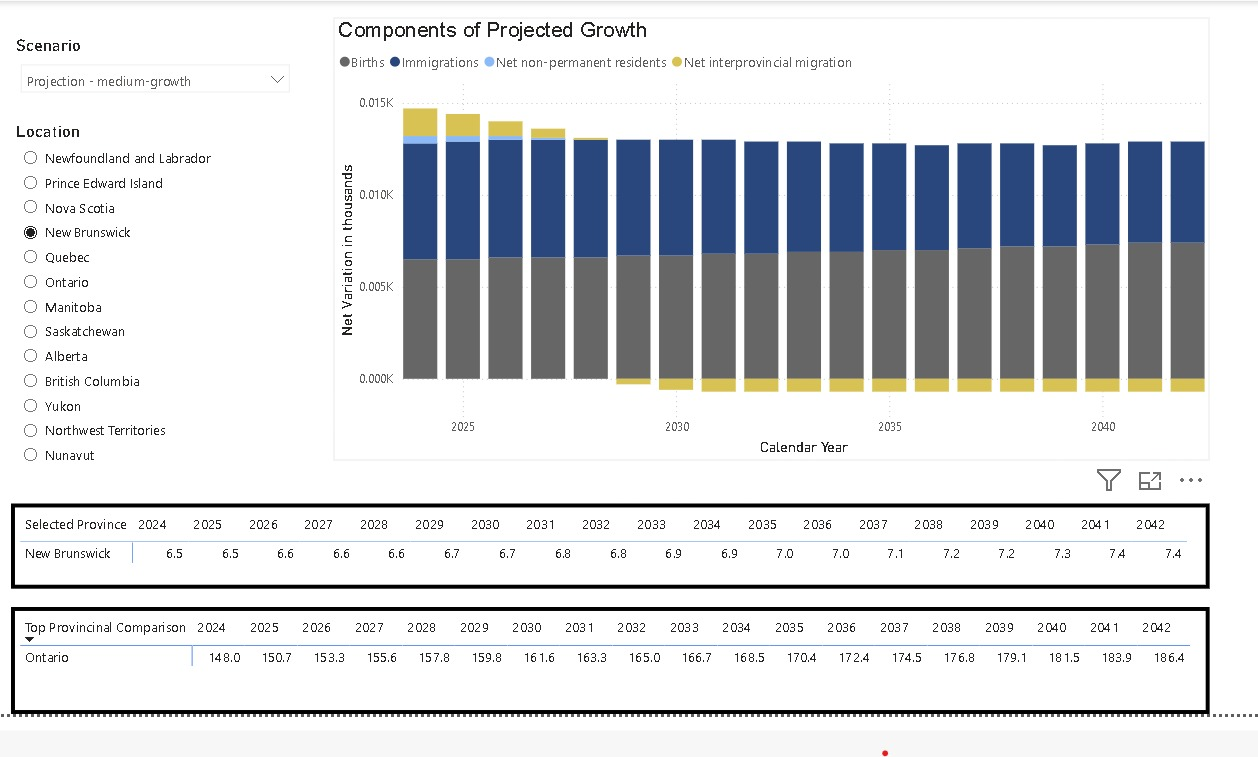

The page's visual inventory and layout, read from the dashboard file:
{"tool":"powerbi","page":{"name":"Detailed Popn Projections","canvas":[1280,720],"ordinal":2},"visuals":[{"type":"slicer","title":"Scenario","fields":{"Values":["Detailed Projections.Projection scenario"]},"box":[18.8,34.3,291.3,75.4],"z":0},{"type":"slicer","title":"Location","fields":{"Values":["Detailed Projections.Location"]},"box":[18.8,121.7,279.3,385.5],"z":1000},{"type":"columnChart","title":"Components of Projected Growth","fields":{"Category":["Detailed Projections.Calendar Year"],"Y":["Sum(Detailed Projections.Births)","Sum(Detailed Projections.Immigrations)","Sum(Detailed Projections.Net non-permanent residents)","Sum(Detailed Projections.Net interprovincial migration)"]},"box":[344.4,17.1,884.2,445.5],"z":2000},{"type":"pivotTable","fields":{"Rows":["Detailed Projections.Location"],"Columns":["Detailed Projections.Calendar Year"],"Values":["Sum(Detailed Projections.Births)"]},"box":[18.8,507.2,1209.7,85.7],"z":3000},{"type":"pivotTable","fields":{"Rows":["Detailed Projections.Location"],"Columns":["Detailed Projections.Calendar Year"],"Values":["Sum(Detailed Projections.Births)"]},"box":[18.8,611.7,1209.7,108],"z":4000}]}

Visuals, with their boxes in screenshot pixels (x1, y1, x2, y2):
"Scenario" slicer: [31,43,314,116]
"Location" slicer: [31,128,302,501]
"Components of Projected Growth" columnChart: [347,26,1204,458]
pivotTable - Detailed Projections.Location x Detailed Projections.Calendar Year: [31,501,1204,584]
pivotTable - Detailed Projections.Location x Detailed Projections.Calendar Year: [31,603,1204,707]
